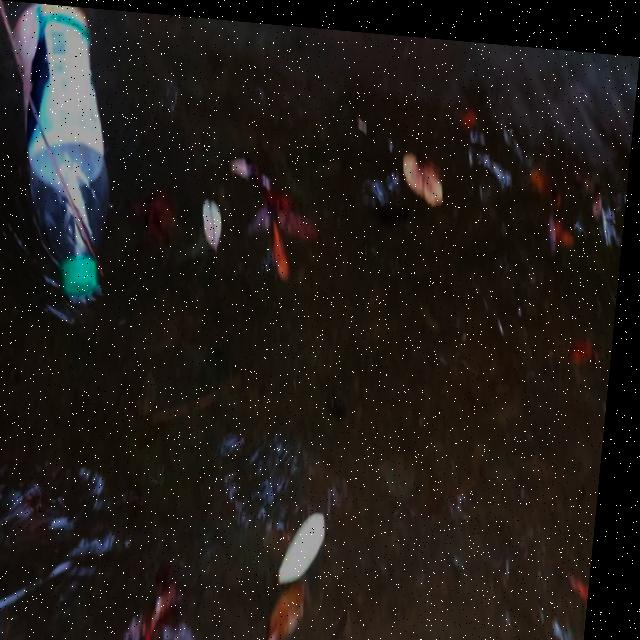waterbottle: (15, 3, 120, 322)
